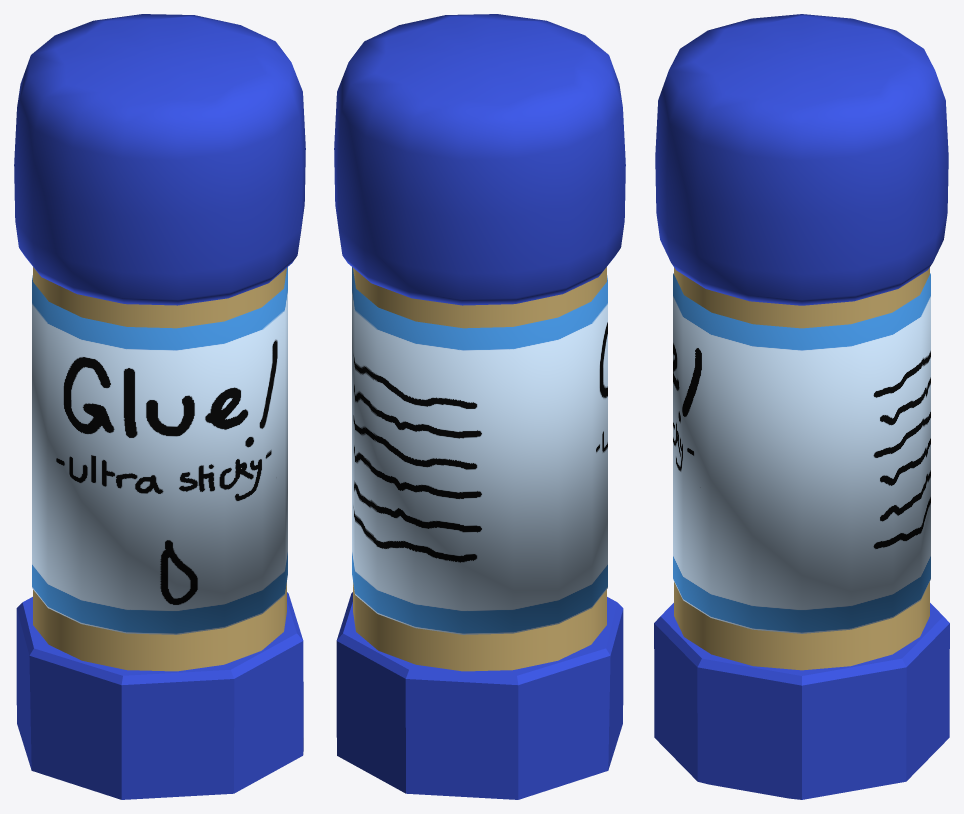
Rendered from gluestick.fbx.
3 views of the same model, side by side, from view 1: azimuth 30°, elevation 25°; view 2: azimuth 150°, elevation 25°; view 3: azimuth 270°, elevation 25° (orthographic).
Parts seen in each view (by area): view 1: label, cap, twist thing, body; view 2: label, cap, twist thing, body; view 3: label, cap, twist thing, body.
Boxes of the visible parts, x1,y1,x2,y2 form: label: (32,267,287,634); cap: (14,14,305,305); twist thing: (16,592,303,799); body: (33,267,286,671); label: (352,267,607,634); cap: (334,14,625,305); twist thing: (336,592,623,799); body: (353,267,606,671); label: (673,273,930,633); cap: (655,14,948,305); twist thing: (654,603,949,799); body: (674,267,929,670).
Size of the model in its own units: 79.48 by 200 by 78.87.
